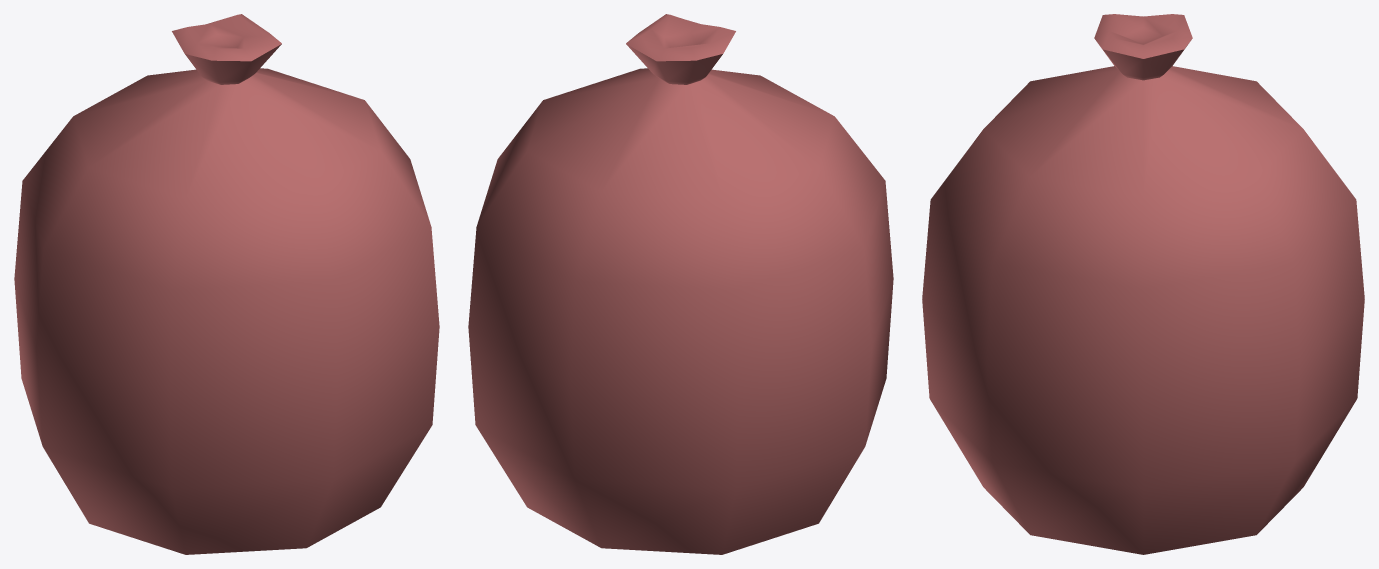
Rendered from Bag_3.fbx.
3 renders of one model, left to right at view 1: azimuth 30°, elevation 25°; view 2: azimuth 150°, elevation 25°; view 3: azimuth 270°, elevation 25°, orthographic.
Visible parts, largest first — view 1: Bag_3; view 2: Bag_3; view 3: Bag_3.
Part boxes in pixels (bbox=[...]): Bag_3: bbox=[14, 14, 439, 554]; Bag_3: bbox=[468, 14, 893, 554]; Bag_3: bbox=[922, 14, 1364, 554].
Size of the model in its own units: 38.8 by 44.59 by 38.8.
